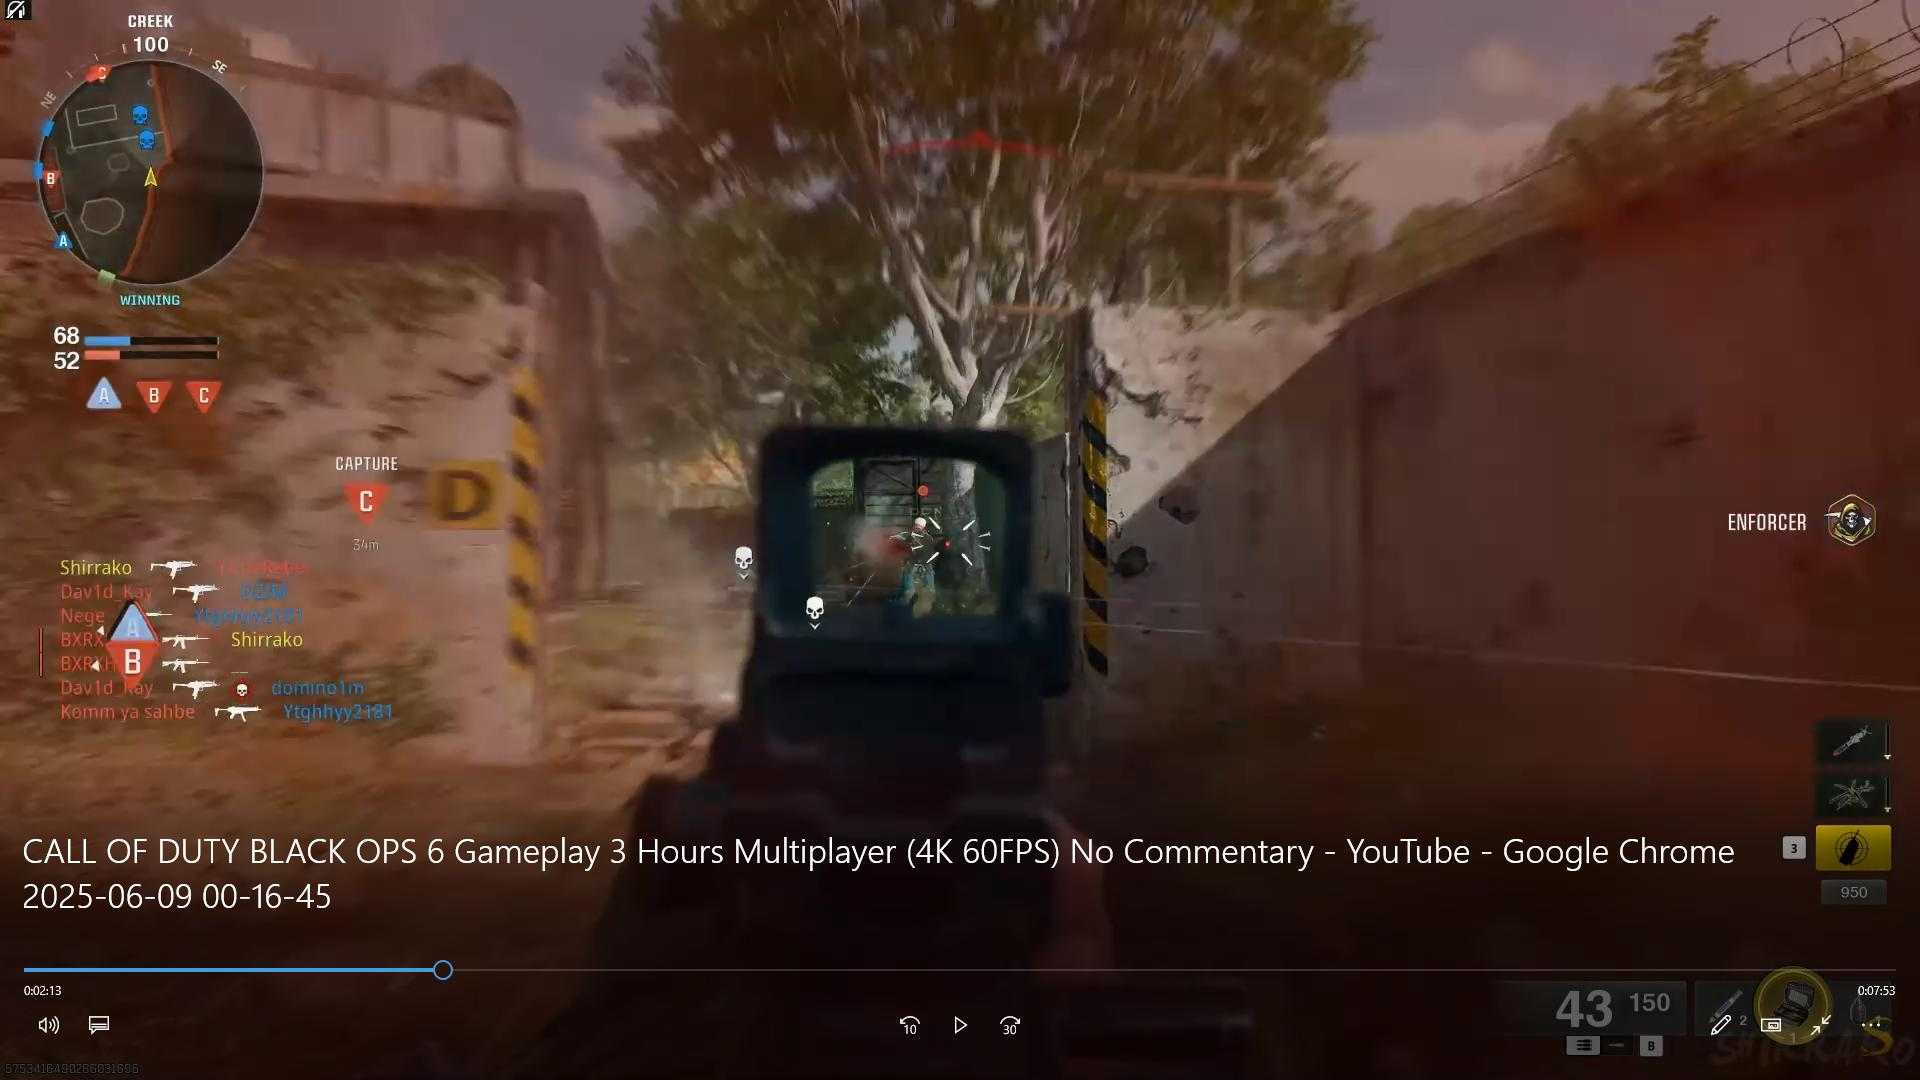Enemy: (889, 513, 940, 588)
